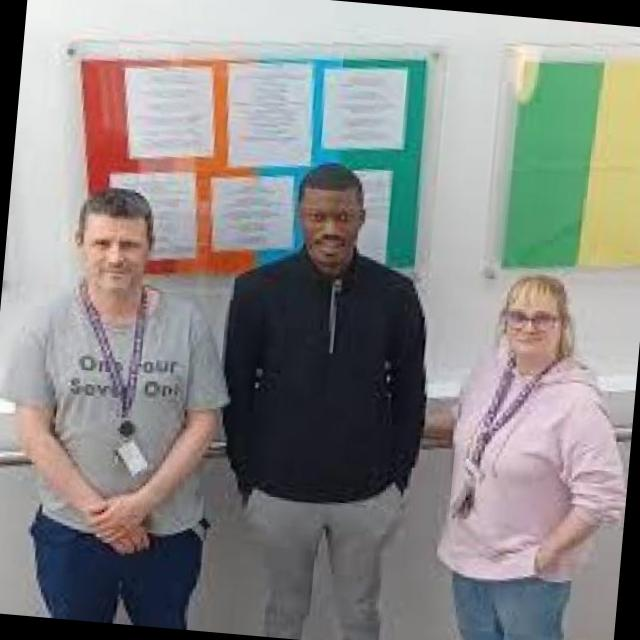id_card: (452, 346, 570, 529), (64, 281, 164, 476)
